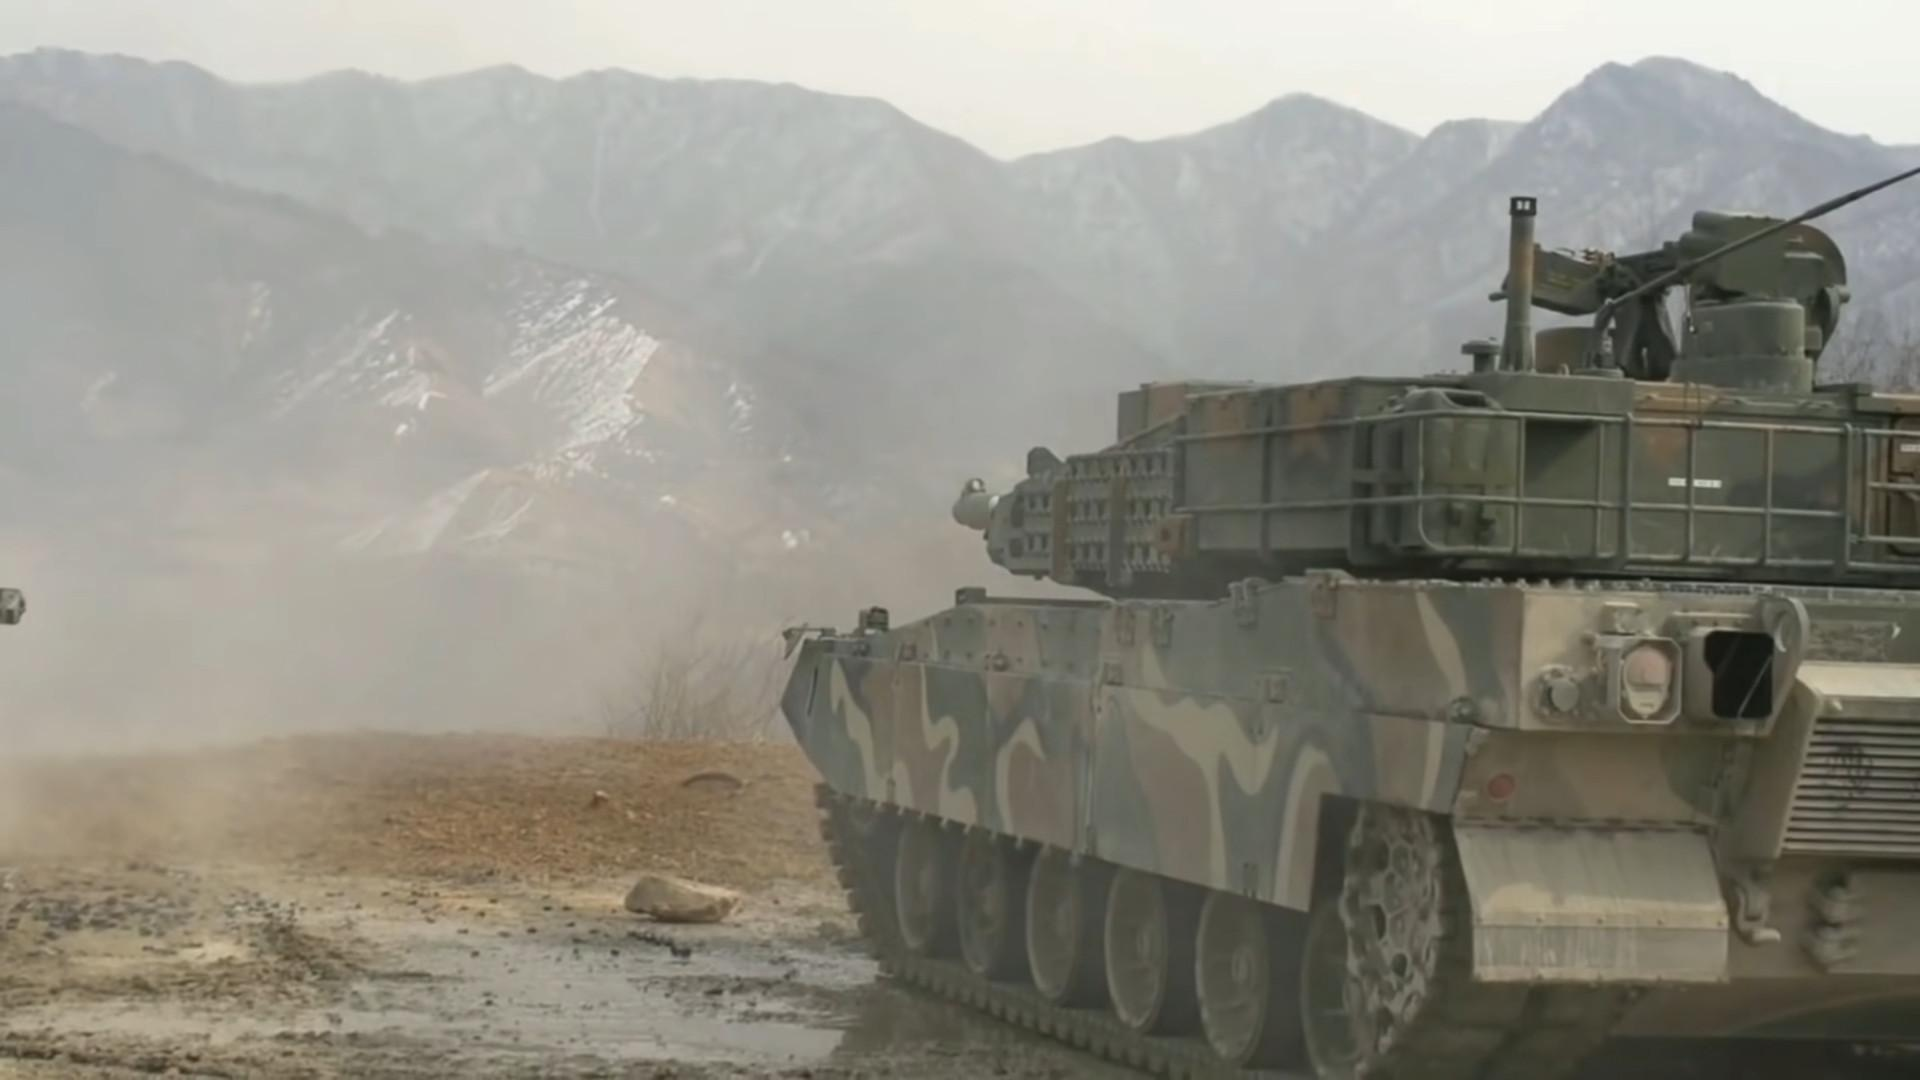tank: (781, 174, 1917, 1079)
